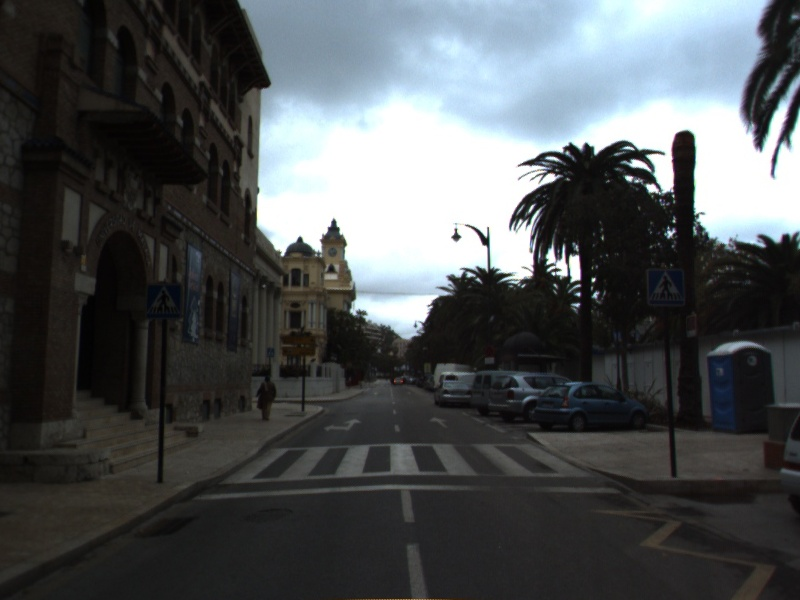STRAIGHT: (427, 415, 451, 430)
STRAIGHT_LEFT: (321, 416, 364, 434)
